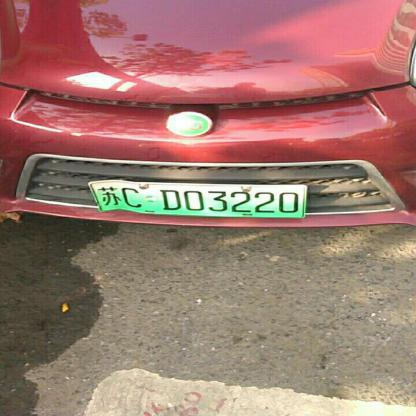lp: (90, 183, 306, 217)
